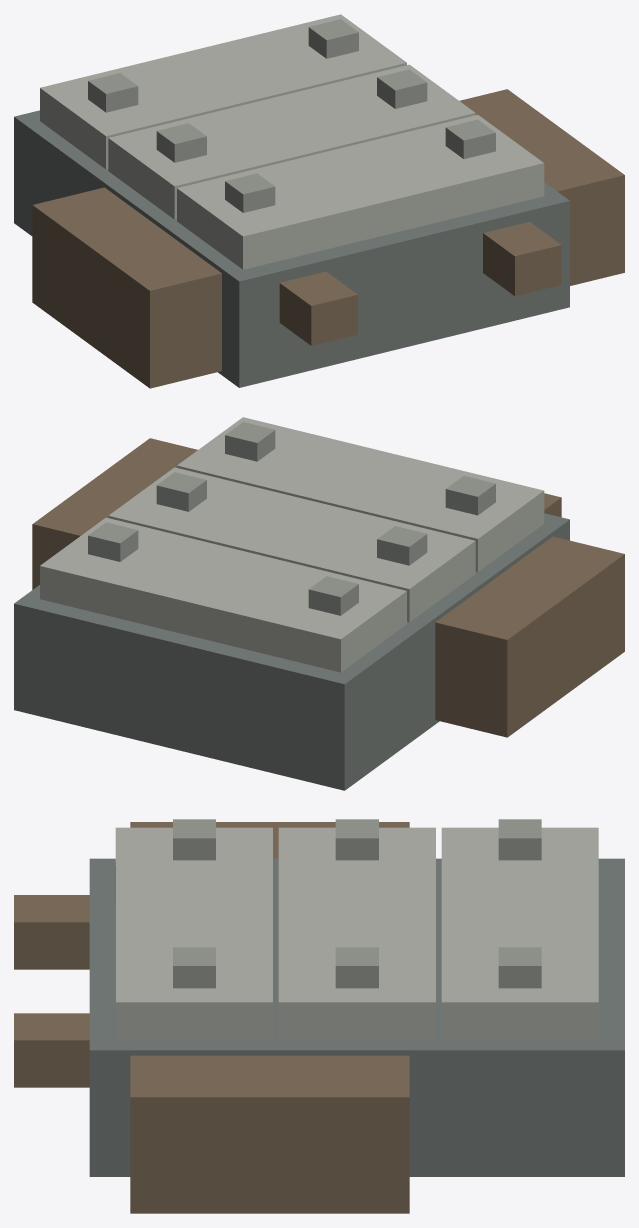
Rendered from spread-portable-rivetedplate.fbx.
3 renders of one model, top to bottom at view 1: azimuth 30°, elevation 25°; view 2: azimuth 150°, elevation 25°; view 3: azimuth 270°, elevation 25°, orthographic. The views are drawn at different scales.
Parts seen in each view (by area): view 1: spread-portable-rivetedplate__Geometry; view 2: spread-portable-rivetedplate__Geometry; view 3: spread-portable-rivetedplate__Geometry.
Part boxes in pixels (x1=…): spread-portable-rivetedplate__Geometry: x1=14, y1=14, x2=624, y2=388; spread-portable-rivetedplate__Geometry: x1=14, y1=417, x2=624, y2=790; spread-portable-rivetedplate__Geometry: x1=14, y1=819, x2=624, y2=1213.
Bounding box in the file's own units: 0.56 × 0.1785 × 0.525.
